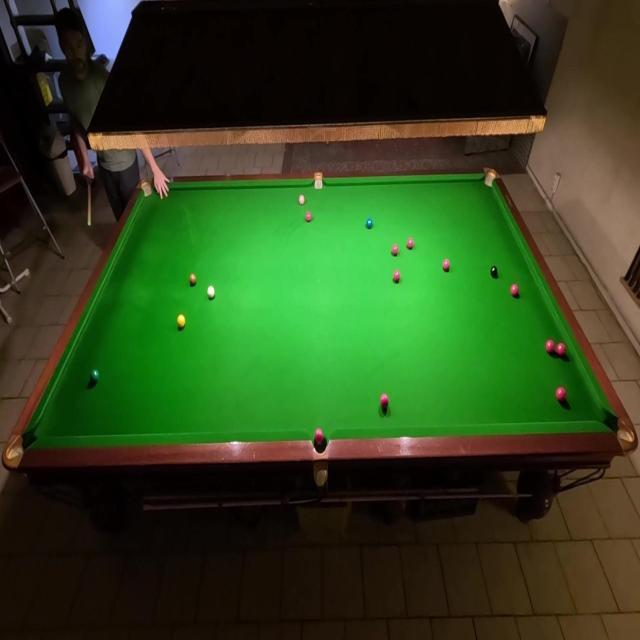Ball: (555, 385, 567, 403), (545, 338, 555, 356), (314, 428, 324, 446), (556, 342, 567, 357), (90, 368, 100, 383), (177, 314, 186, 328), (442, 258, 450, 272), (490, 264, 498, 278), (207, 286, 216, 298), (381, 394, 388, 409), (511, 283, 518, 297), (304, 210, 312, 222), (298, 194, 306, 206), (407, 237, 414, 250), (394, 270, 401, 283), (366, 217, 373, 230), (190, 274, 197, 286), (392, 244, 398, 256)
